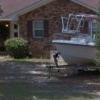Boat: (53, 8, 100, 82)
